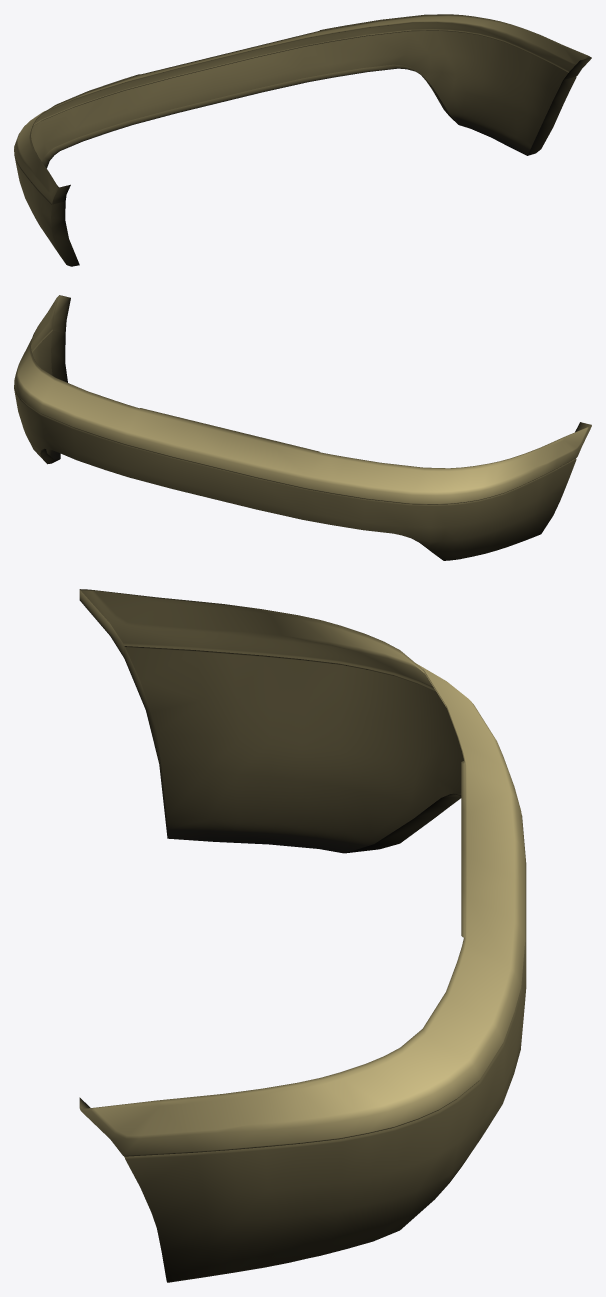
The model's file is MX5_RB02_Duco.fbx.
The picture shows the model from 3 angles, top to bottom: view 1: azimuth 30°, elevation 25°; view 2: azimuth 150°, elevation 25°; view 3: azimuth 270°, elevation 25°; orthographic projection. The views are drawn at different scales.
Parts seen in each view (by area): view 1: MX5_RB02_Duco; view 2: MX5_RB02_Duco; view 3: MX5_RB02_Duco.
Boxes of the visible parts, left/top/right/bottom form: MX5_RB02_Duco: left=14, top=14, right=591, bottom=266; MX5_RB02_Duco: left=14, top=295, right=591, bottom=560; MX5_RB02_Duco: left=79, top=589, right=526, bottom=1282.
Size of the model in its own units: 156 by 29.14 by 56.61.
